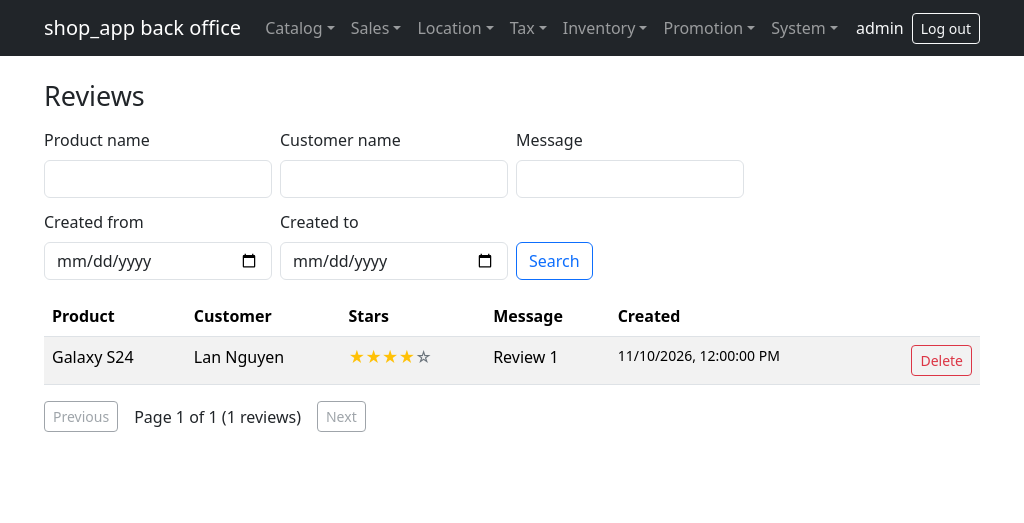
Scenario: Reviews page › deletes after a confirmation and reloads
Click the button "Delete" at (942, 361), box [911,345,972,376]
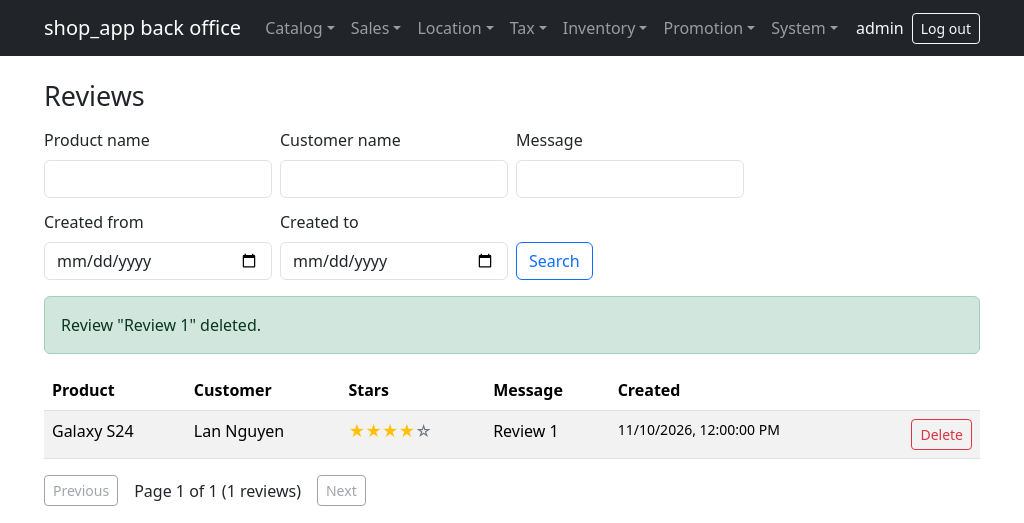
Result: the text "Review \"Review 1\" deleted." is shown at [44,296,980,354]
